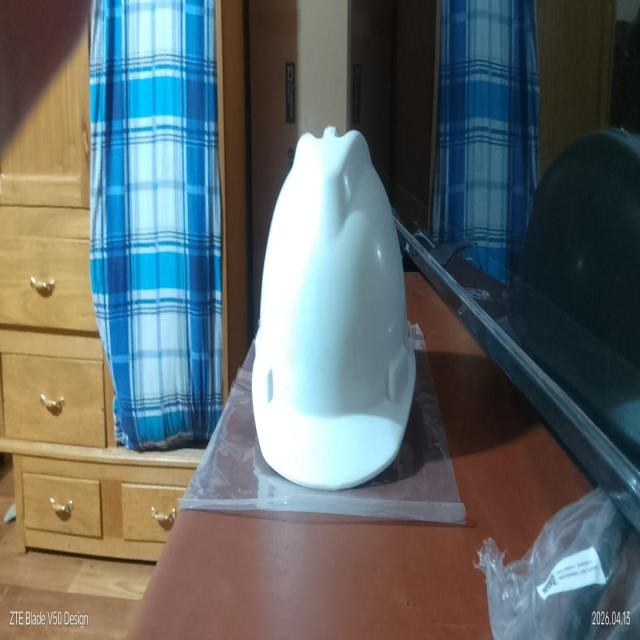casco: (241, 109, 422, 486)
